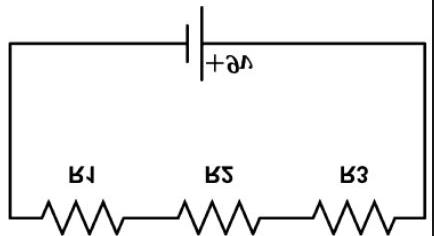resistor: (35, 188, 138, 234), (164, 192, 264, 235), (296, 192, 399, 233)
